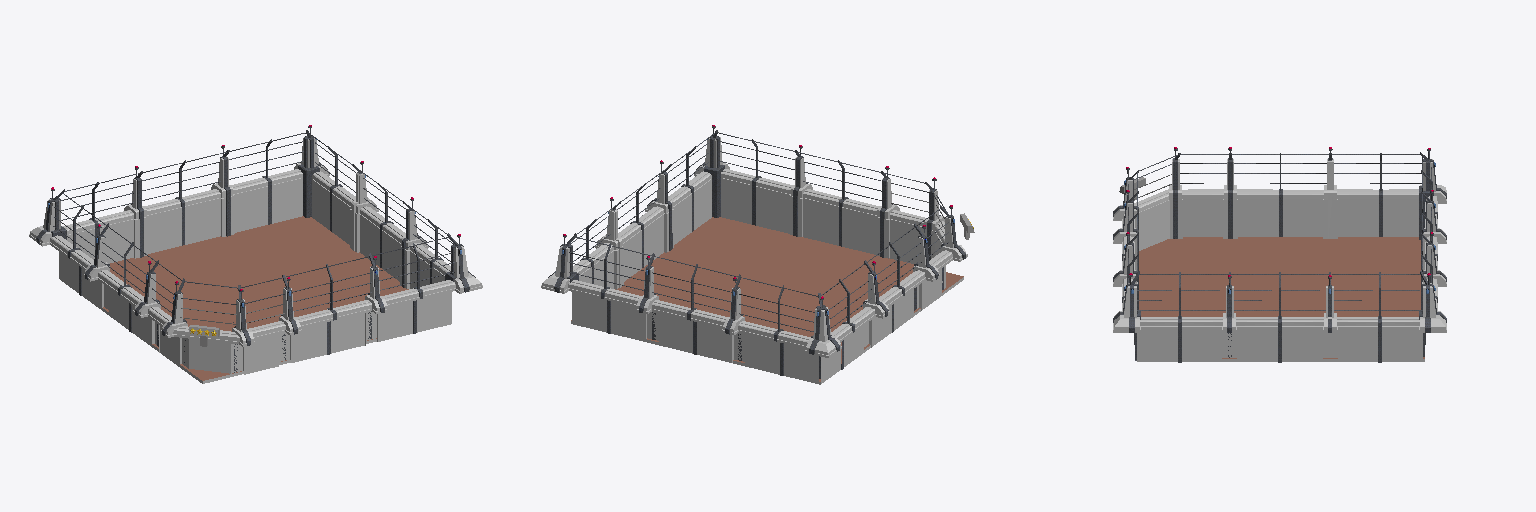
3 views of the same model, side by side, from view 1: azimuth 30°, elevation 25°; view 2: azimuth 150°, elevation 25°; view 3: azimuth 270°, elevation 25° (orthographic).
Visible parts, largest first — view 1: jurassic_park.003; view 2: jurassic_park.003; view 3: jurassic_park.003.
Boxes of the visible parts, x1=… form: jurassic_park.003: x1=29, y1=125, x2=482, y2=383; jurassic_park.003: x1=541, y1=125, x2=974, y2=384; jurassic_park.003: x1=1113, y1=147, x2=1446, y2=362.
Bounding box in the file's own units: 192 × 57.79 × 193.
11 materials, 3 textured.